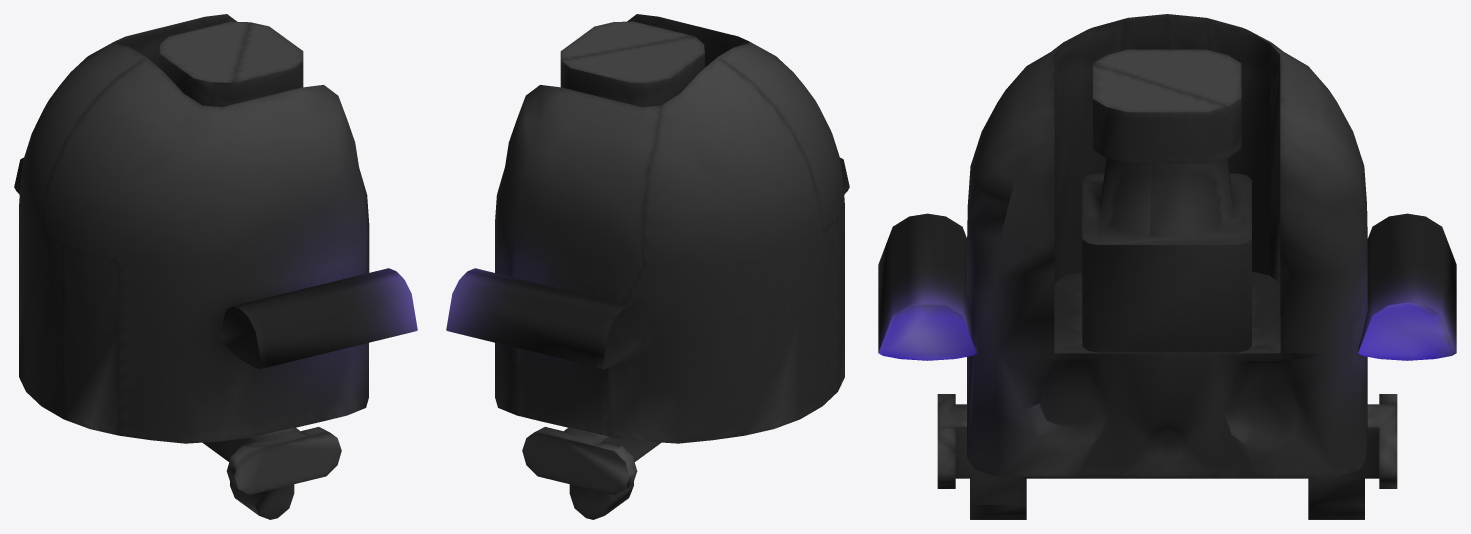
The model's file is head.dae.
3 renders of one model, left to right at view 1: azimuth 30°, elevation 25°; view 2: azimuth 150°, elevation 25°; view 3: azimuth 270°, elevation 25°, orthographic. The views are drawn at different scales.
Visible parts, largest first — view 1: p37504, p38042, p37374, p37197, p38316; view 2: p37504, p38006, p37374, p37197, p38042; view 3: p37504, p37374, p37197, p38006, p38042, p38031, p38305.
Part boxes in pixels (box(x1,y1,x2,y2)): p37504: box(19, 14, 369, 443); p38042: box(14, 157, 417, 368); p37374: box(159, 21, 303, 106); p37197: box(203, 427, 341, 519); p38316: box(219, 306, 261, 369); p37504: box(495, 14, 844, 443); p38006: box(446, 268, 630, 368); p37374: box(560, 21, 704, 106); p37197: box(522, 427, 660, 519); p38042: box(602, 306, 644, 369); p37504: box(967, 14, 1367, 476); p37374: box(1082, 49, 1251, 352); p37197: box(937, 394, 1397, 519); p38006: box(1358, 213, 1456, 352); p38042: box(878, 213, 976, 352); p38031: box(1358, 302, 1456, 358); p38305: box(878, 302, 976, 358).
Size of the model in its own units: 0.1216 by 0.2047 by 0.1872.
